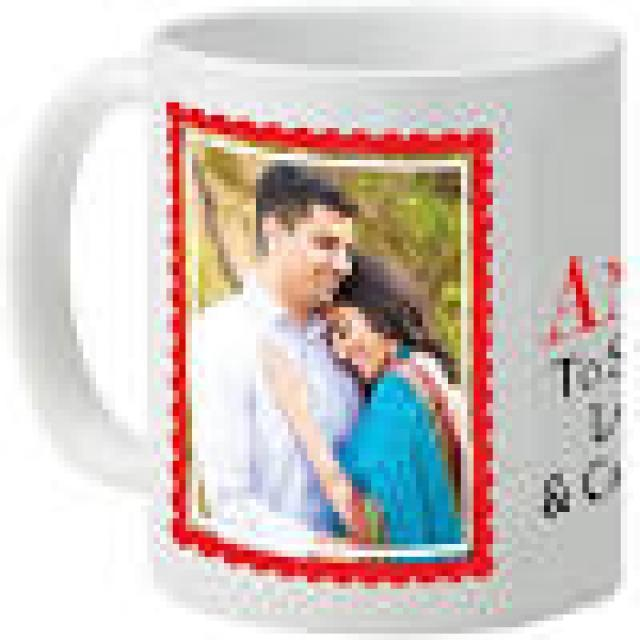taza: (41, 6, 639, 638)
